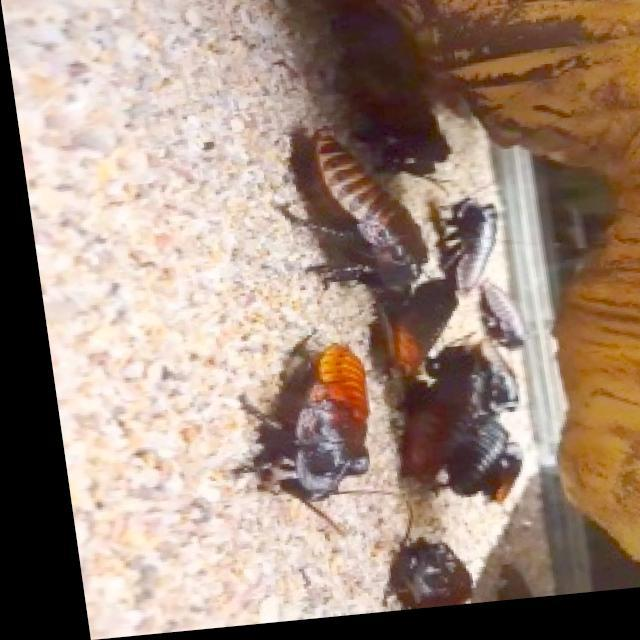cockroach: (268, 318, 387, 536), (298, 101, 419, 312), (443, 166, 495, 306)
